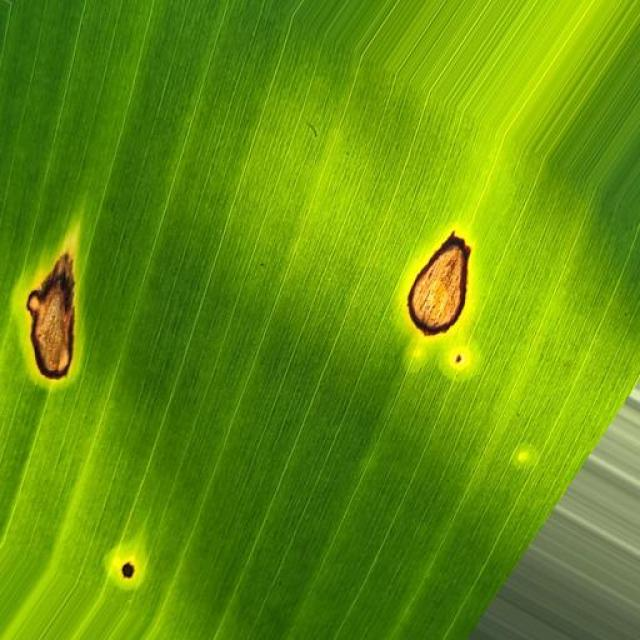Early_rust: (0, 231, 120, 399), (391, 218, 494, 394), (93, 530, 171, 620)
